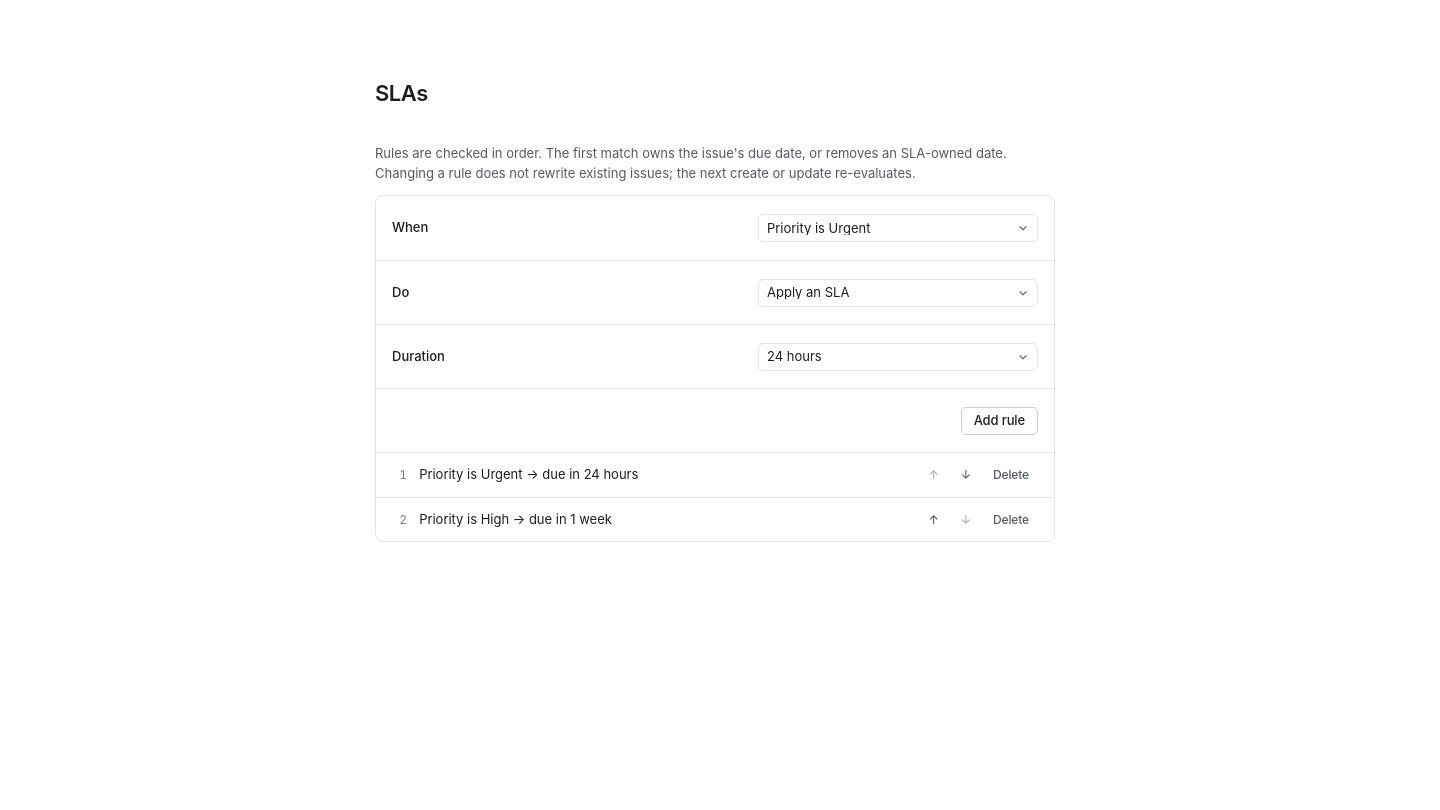
SlaSettings › shows a refused delete inside the dialog rather than behind it
This screenshot has width=1440, height=810.
What coordinates should you click on to do the following:
click the button "Delete" in the row of "Priority is Urgent → due in 24 hours"
I would click on:
 (1011, 475)
Its box is [984,464,1038,486].
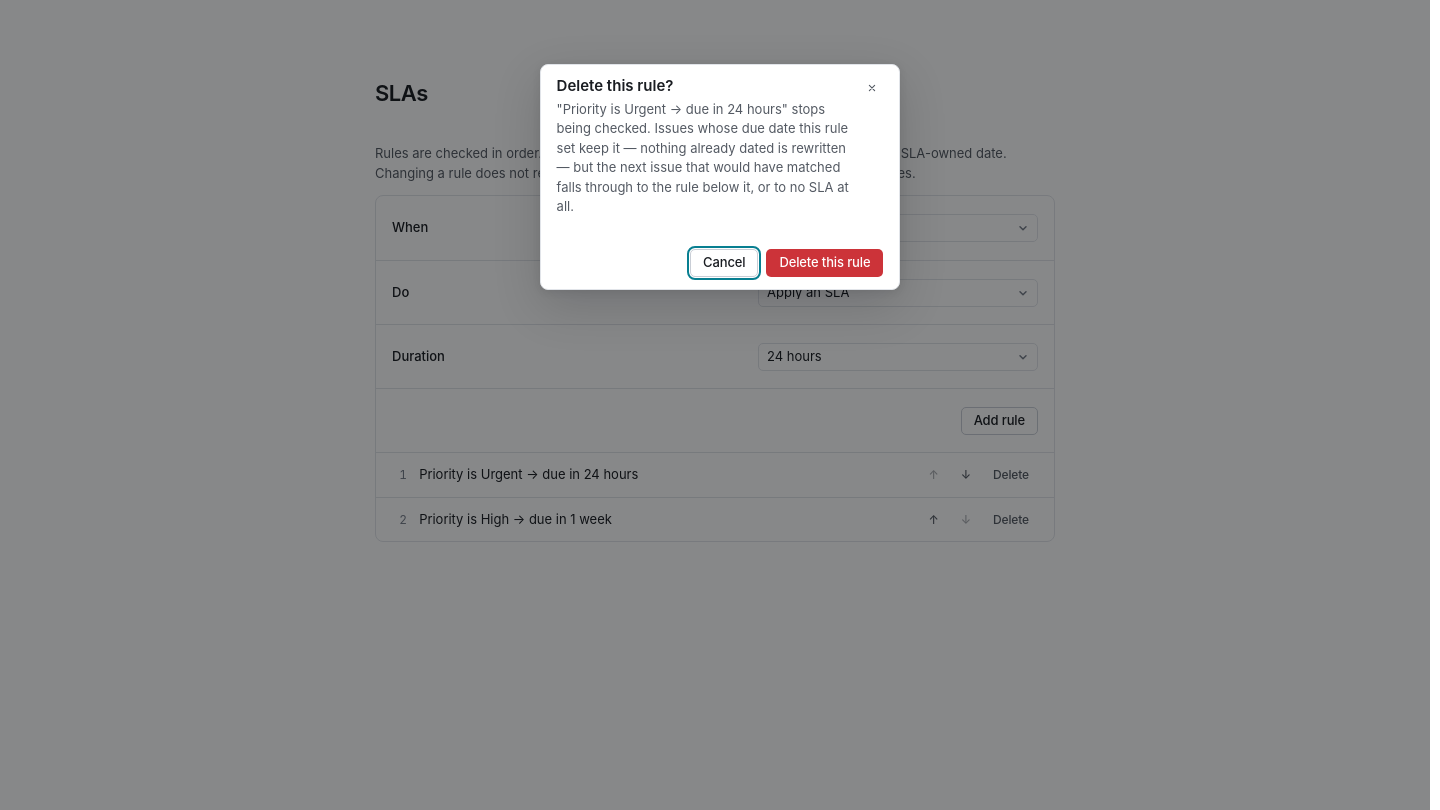
What coordinates should you click on to do the following:
click the button "Delete this rule"
I would click on:
 (825, 263)
Its box is [766,249,883,277].
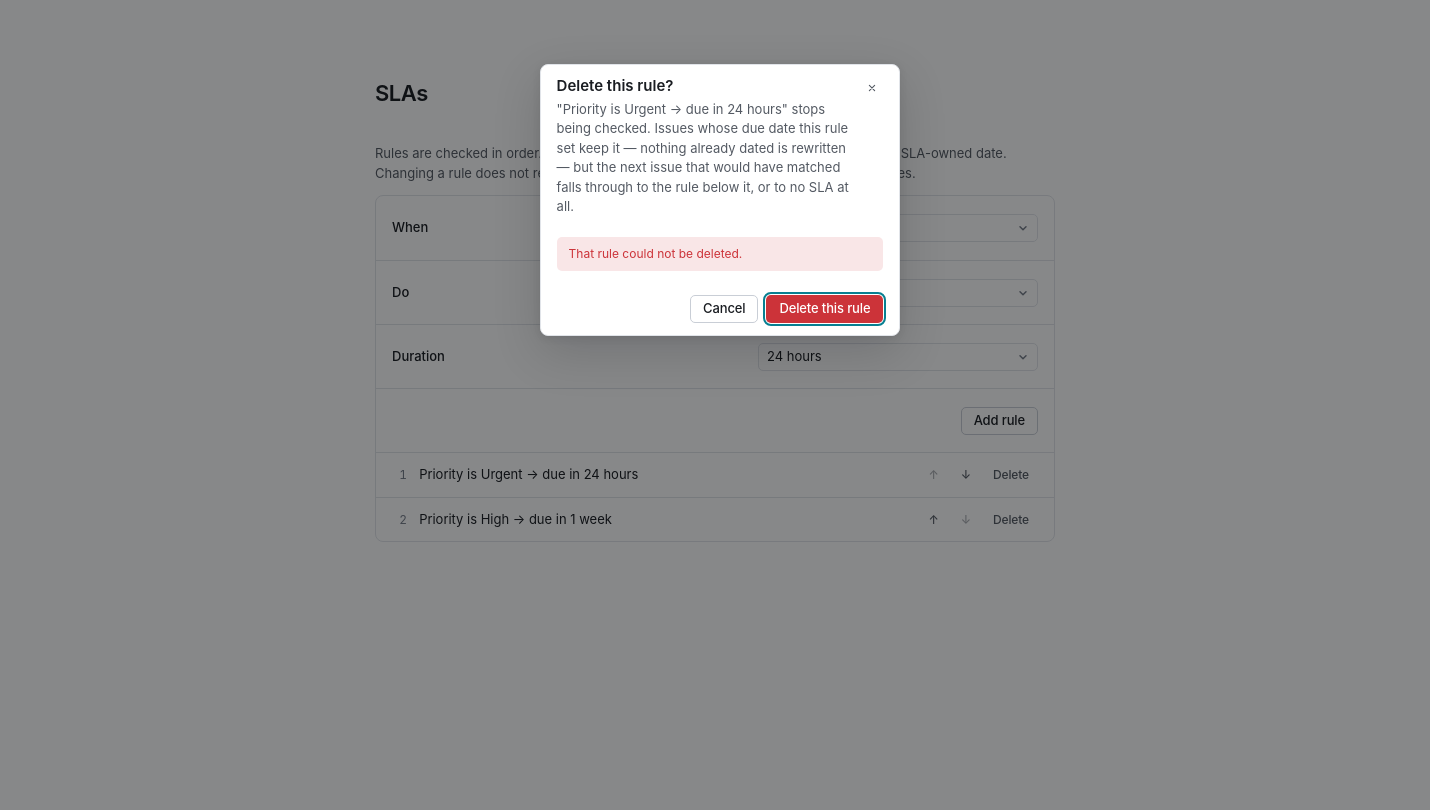
Now the dialog shows "That rule could not be deleted.", box [569,246,742,261]
